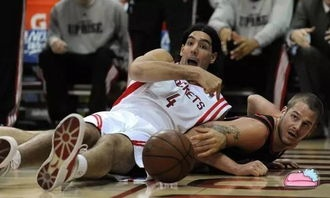falling: (29, 9, 299, 190)
